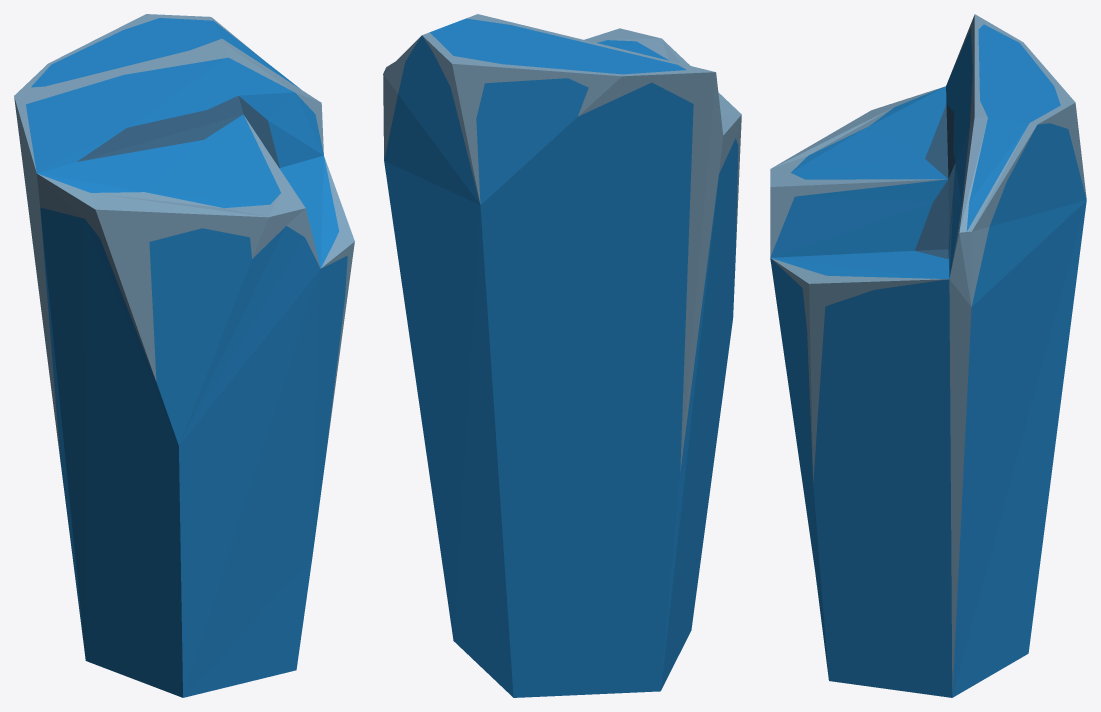
File: Stone_Blue_A_03.FBX
3 views of the same model, side by side, from view 1: azimuth 30°, elevation 25°; view 2: azimuth 150°, elevation 25°; view 3: azimuth 270°, elevation 25° (orthographic). The views are drawn at different scales.
Visible parts, largest first — view 1: Stone_Blue_A_03; view 2: Stone_Blue_A_03; view 3: Stone_Blue_A_03.
Part boxes in pixels (x1,y1,x2,y2): Stone_Blue_A_03: (14, 14, 354, 697); Stone_Blue_A_03: (383, 14, 741, 697); Stone_Blue_A_03: (770, 14, 1086, 697).
Bounding box in the file's own units: 1.25 × 2.28 × 1.15.
